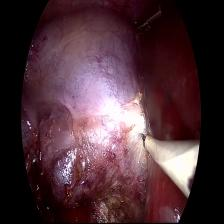Grasper: (130, 4, 165, 43)
Hook: (137, 112, 197, 197)
